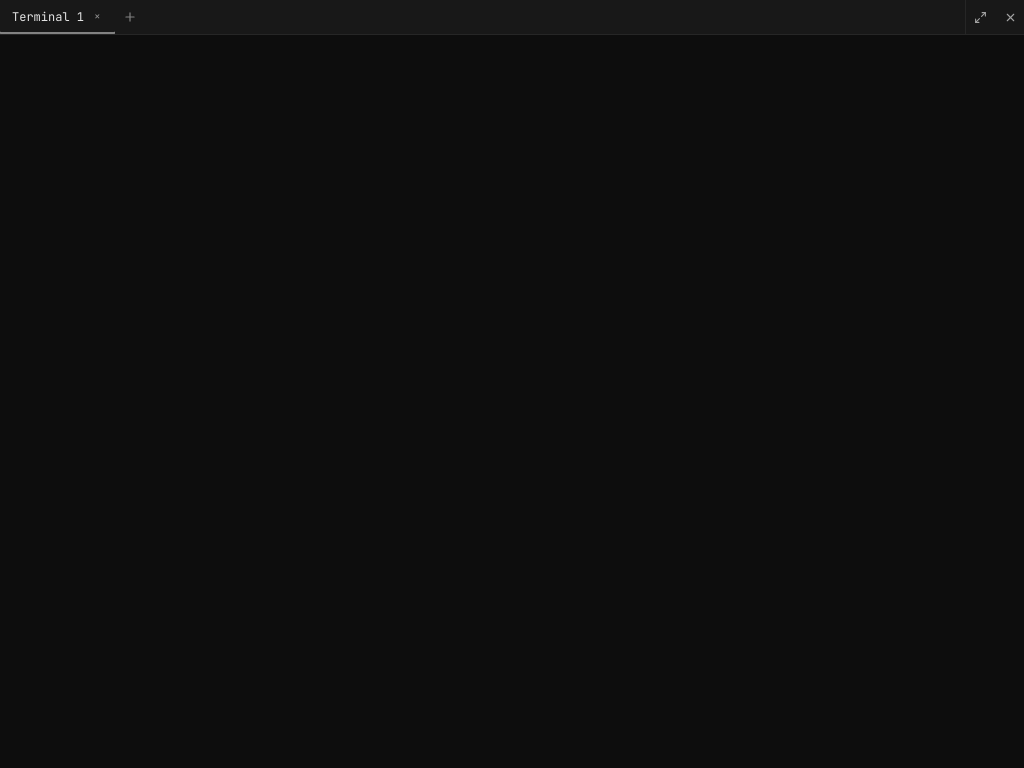
Test: TabsStrip › does not re-create when the last terminal is closed while the dock stays open
This screenshot has width=1024, height=768.
Click the button named "Terminate Terminal 1": {"x": 97, "y": 16} x1=94 y1=9 x2=101 y2=23
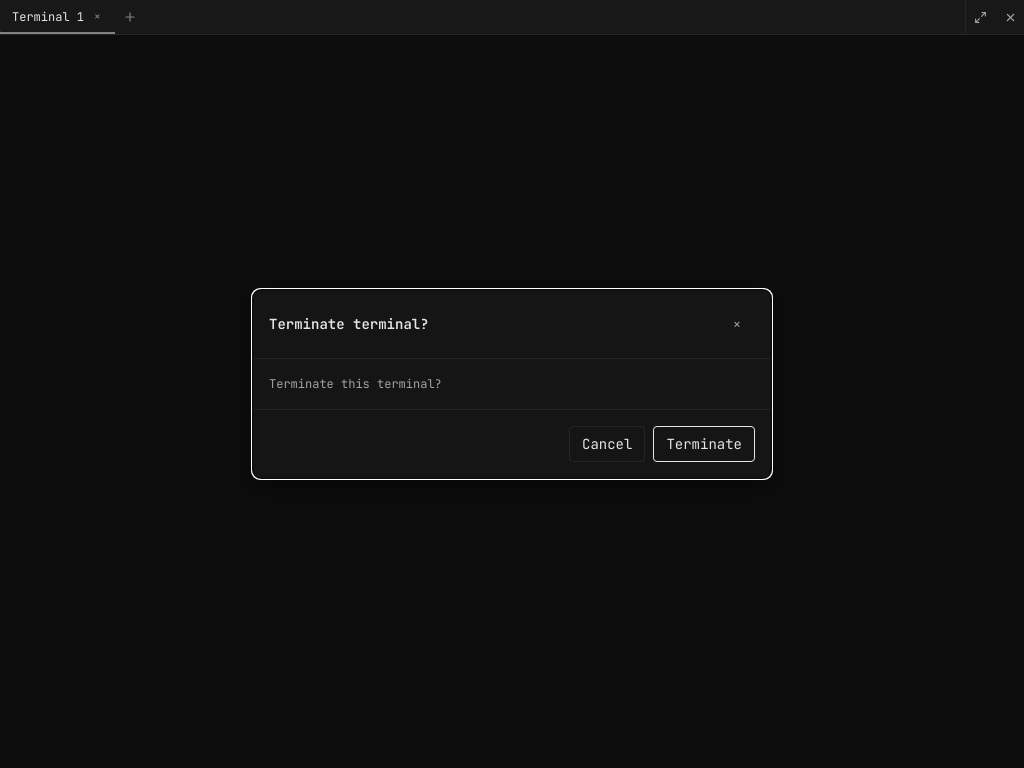
Click the button "Terminate": {"x": 704, "y": 444} x1=653 y1=426 x2=755 y2=462
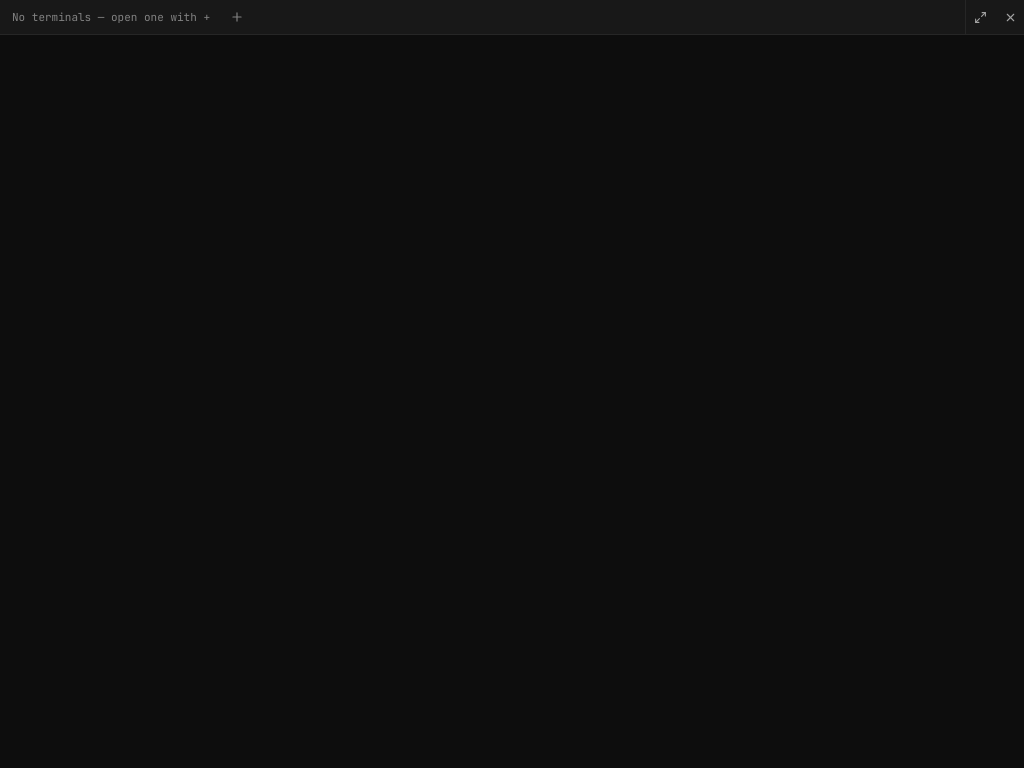
expect the tab "Terminal 1" is gone: met
expect the text "No terminals — open one with +" is shown: met, box x1=12 y1=10 x2=210 y2=24
